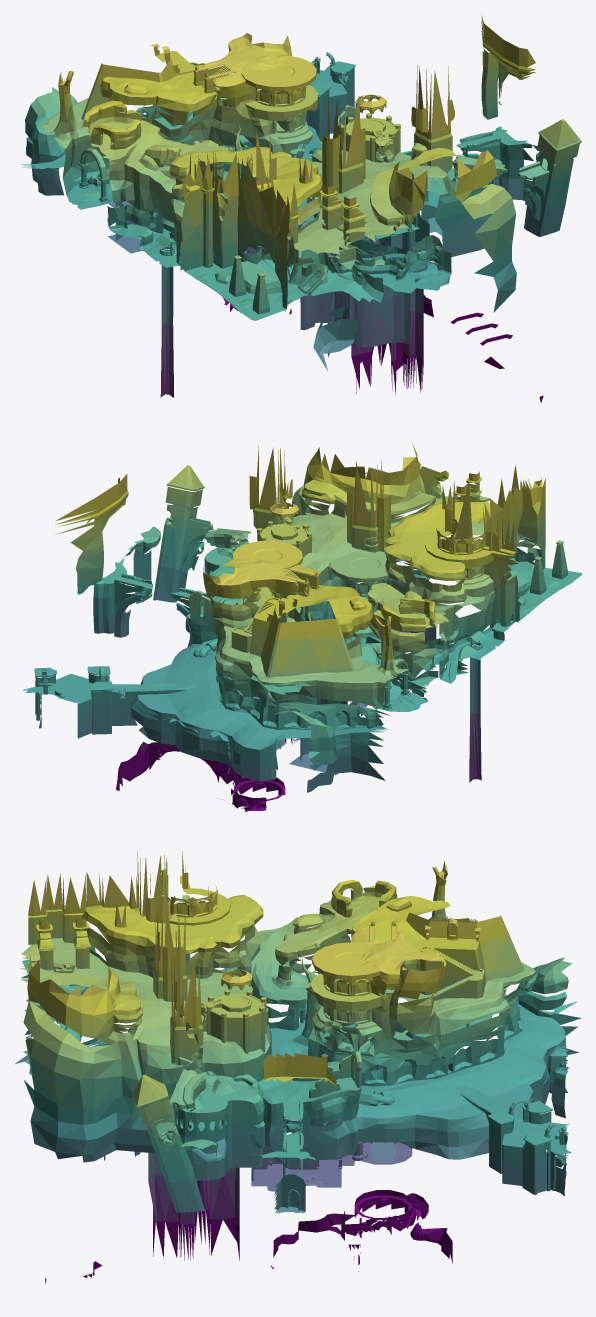
3 renders of one model, top to bottom at view 1: azimuth 30°, elevation 25°; view 2: azimuth 150°, elevation 25°; view 3: azimuth 270°, elevation 25°, orthographic. The views are drawn at different scales.
Visible parts, largest first — view 1: walls, floors; view 2: walls, floors; view 3: walls, floors.
Boxes of the visible parts, box(x1,y1,x2,y2) form: walls: box(25, 16, 581, 402); floors: box(20, 21, 581, 370); walls: box(34, 443, 567, 810); floors: box(23, 451, 581, 811); walls: box(21, 851, 581, 1284); floors: box(14, 866, 577, 1268).
Size of the model in its own units: 170 by 126 by 195.
